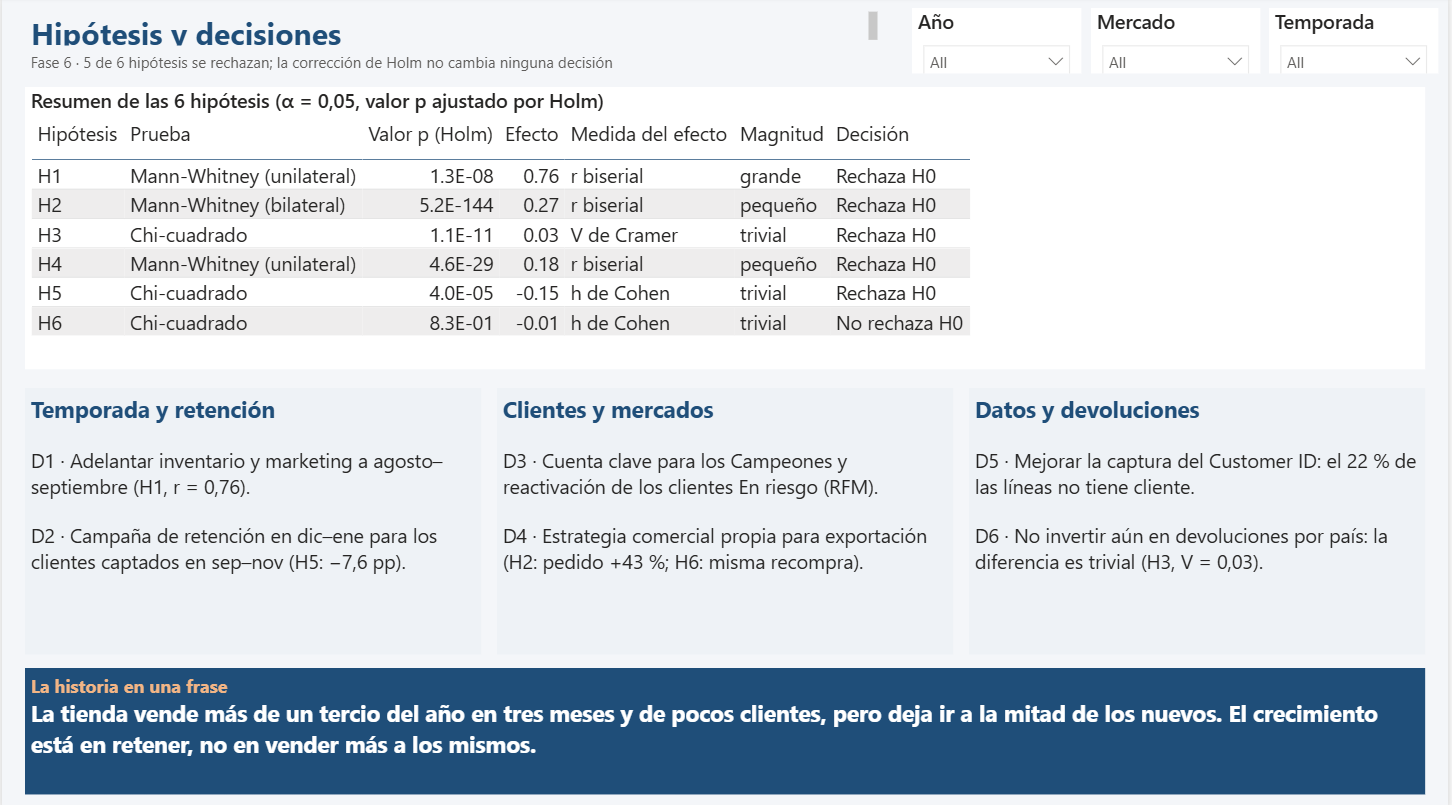

This screenshot's page, from the dashboard's own definition file:
{"tool":"powerbi","page":{"name":"Hipótesis y decisiones","canvas":[1280,720],"ordinal":5},"visuals":[{"type":"textbox","box":[20,8,760,40],"z":1000},{"type":"textbox","box":[20,44,760,28],"z":2000},{"type":"slicer","title":"Año","fields":{"Values":["dim_fecha.anio"]},"box":[806,10,150,58],"z":3000},{"type":"slicer","title":"Mercado","fields":{"Values":["dim_pais.pais_grupo"]},"box":[964,10,150,58],"z":4000},{"type":"slicer","title":"Temporada","fields":{"Values":["dim_fecha.temporada"]},"box":[1122,10,150,58],"z":5000},{"type":"tableEx","title":"Resumen de las 6 hipótesis (α = 0,05, valor p ajustado por Holm)","fields":{"Values":["resumen_hipotesis.hipotesis","resumen_hipotesis.prueba","resumen_hipotesis.p_holm","resumen_hipotesis.efecto","resumen_hipotesis.medida_efecto","resumen_hipotesis.magnitud","resumen_hipotesis.decision"]},"box":[20,80,1240,250],"z":6000},{"type":"textbox","box":[20,346,404,236],"z":7000},{"type":"textbox","box":[438,346,404,236],"z":8000},{"type":"textbox","box":[856,346,404,236],"z":9000},{"type":"textbox","box":[20,594,1240,112],"z":10000}]}

Visuals, with their boxes in screenshot pixels (x1, y1, x2, y2), scaled from the page's 1280x720 canvas onto the 1452x805 screenshot:
textbox: l=23, t=9, r=885, b=54
textbox: l=23, t=49, r=885, b=80
"Año" slicer: l=914, t=11, r=1084, b=76
"Mercado" slicer: l=1094, t=11, r=1264, b=76
"Temporada" slicer: l=1273, t=11, r=1443, b=76
"Resumen de las 6 hipótesis (α = 0,05, valor p ajustado por Holm)" tableEx: l=23, t=89, r=1429, b=369
textbox: l=23, t=387, r=481, b=651
textbox: l=497, t=387, r=955, b=651
textbox: l=971, t=387, r=1429, b=651
textbox: l=23, t=664, r=1429, b=789
